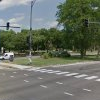crosswalk: (36, 68, 100, 81)
